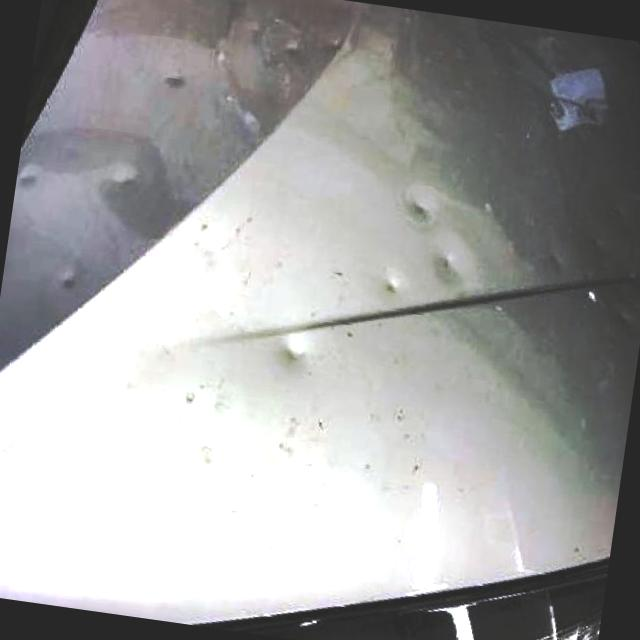dent: (191, 432, 224, 468), (401, 188, 436, 220), (15, 160, 44, 196), (194, 234, 228, 260), (428, 250, 459, 278), (109, 162, 141, 188), (281, 336, 309, 364), (54, 266, 82, 294), (378, 276, 404, 299)
